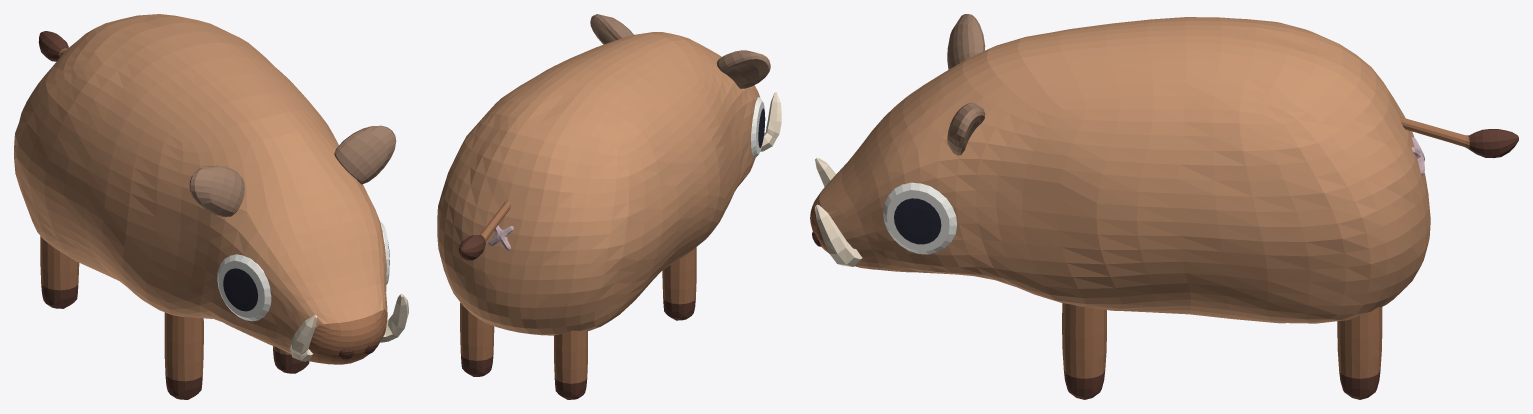
File: Hog_LOD0.fbx
The picture shows the model from 3 angles, left to right: view 1: azimuth 30°, elevation 25°; view 2: azimuth 150°, elevation 25°; view 3: azimuth 270°, elevation 25°; orthographic projection. The views are drawn at different scales.
Visible parts, largest first — view 1: Mesh; view 2: Mesh; view 3: Mesh.
Boxes of the visible parts, x1,y1,x2,y2 form: Mesh: [14, 14, 408, 399]; Mesh: [437, 14, 781, 399]; Mesh: [810, 14, 1518, 399].
Bounding box in the file's own units: 118 × 153 × 289.
1 material, 1 textured.
